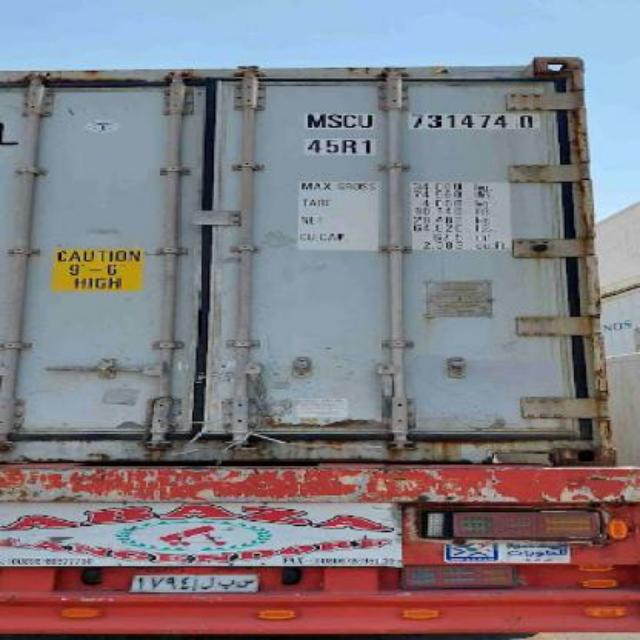0: (516, 110, 538, 130)
1: (440, 108, 458, 130)
3: (426, 111, 444, 127)
4: (456, 106, 476, 132), (494, 110, 508, 132)
7: (408, 111, 426, 131), (476, 108, 492, 130)
C: (338, 104, 356, 132)
M: (296, 110, 328, 130)
S: (326, 108, 342, 134)
U: (354, 110, 378, 130)
